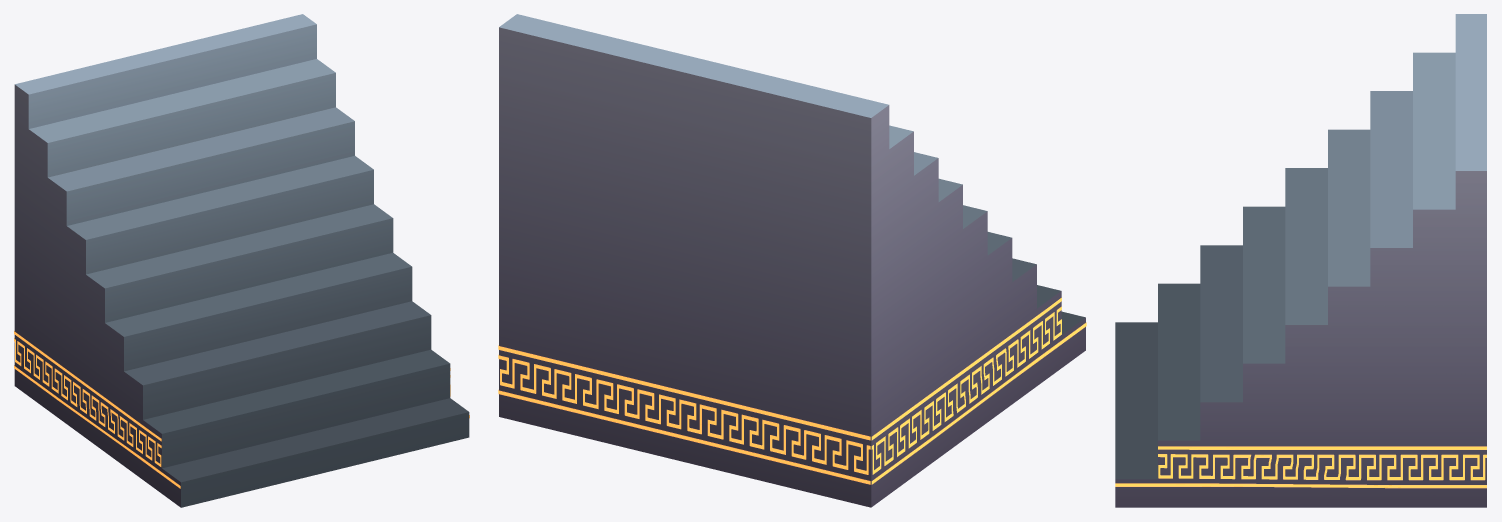
Rendered from Stairs.fbx.
The picture shows the model from 3 angles, left to right: view 1: azimuth 30°, elevation 25°; view 2: azimuth 150°, elevation 25°; view 3: azimuth 270°, elevation 25°; orthographic projection. The views are drawn at different scales.
Parts seen in each view (by area): view 1: Stairs; view 2: Stairs; view 3: Stairs.
Part boxes in pixels (left/top/right/bottom): Stairs: left=14, top=14, right=469, bottom=507; Stairs: left=498, top=14, right=1086, bottom=507; Stairs: left=1115, top=14, right=1486, bottom=507.
Bounding box in the file's own units: 301 × 300 × 301.
